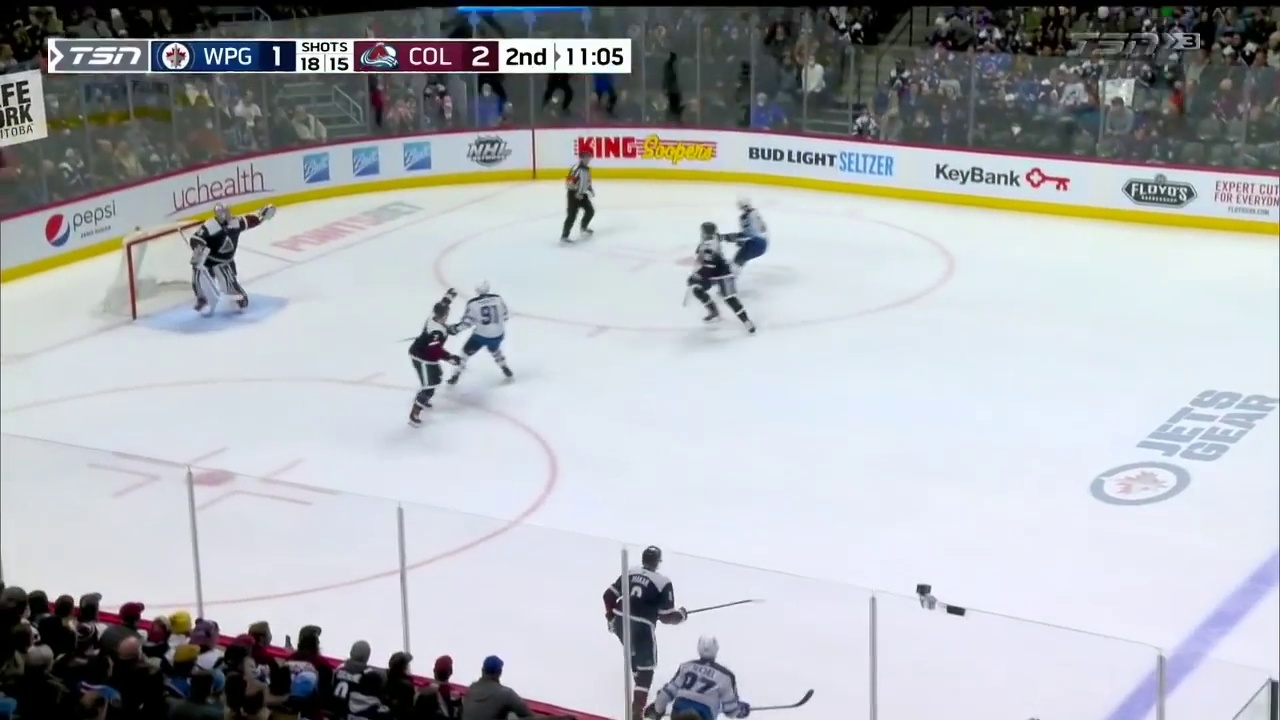goalie: (190, 202, 276, 317)
hockeyplayer: (603, 546, 687, 720), (644, 634, 750, 720), (687, 222, 756, 334), (407, 288, 461, 427), (447, 279, 513, 387), (725, 195, 769, 275)
referee: (560, 151, 595, 244)
